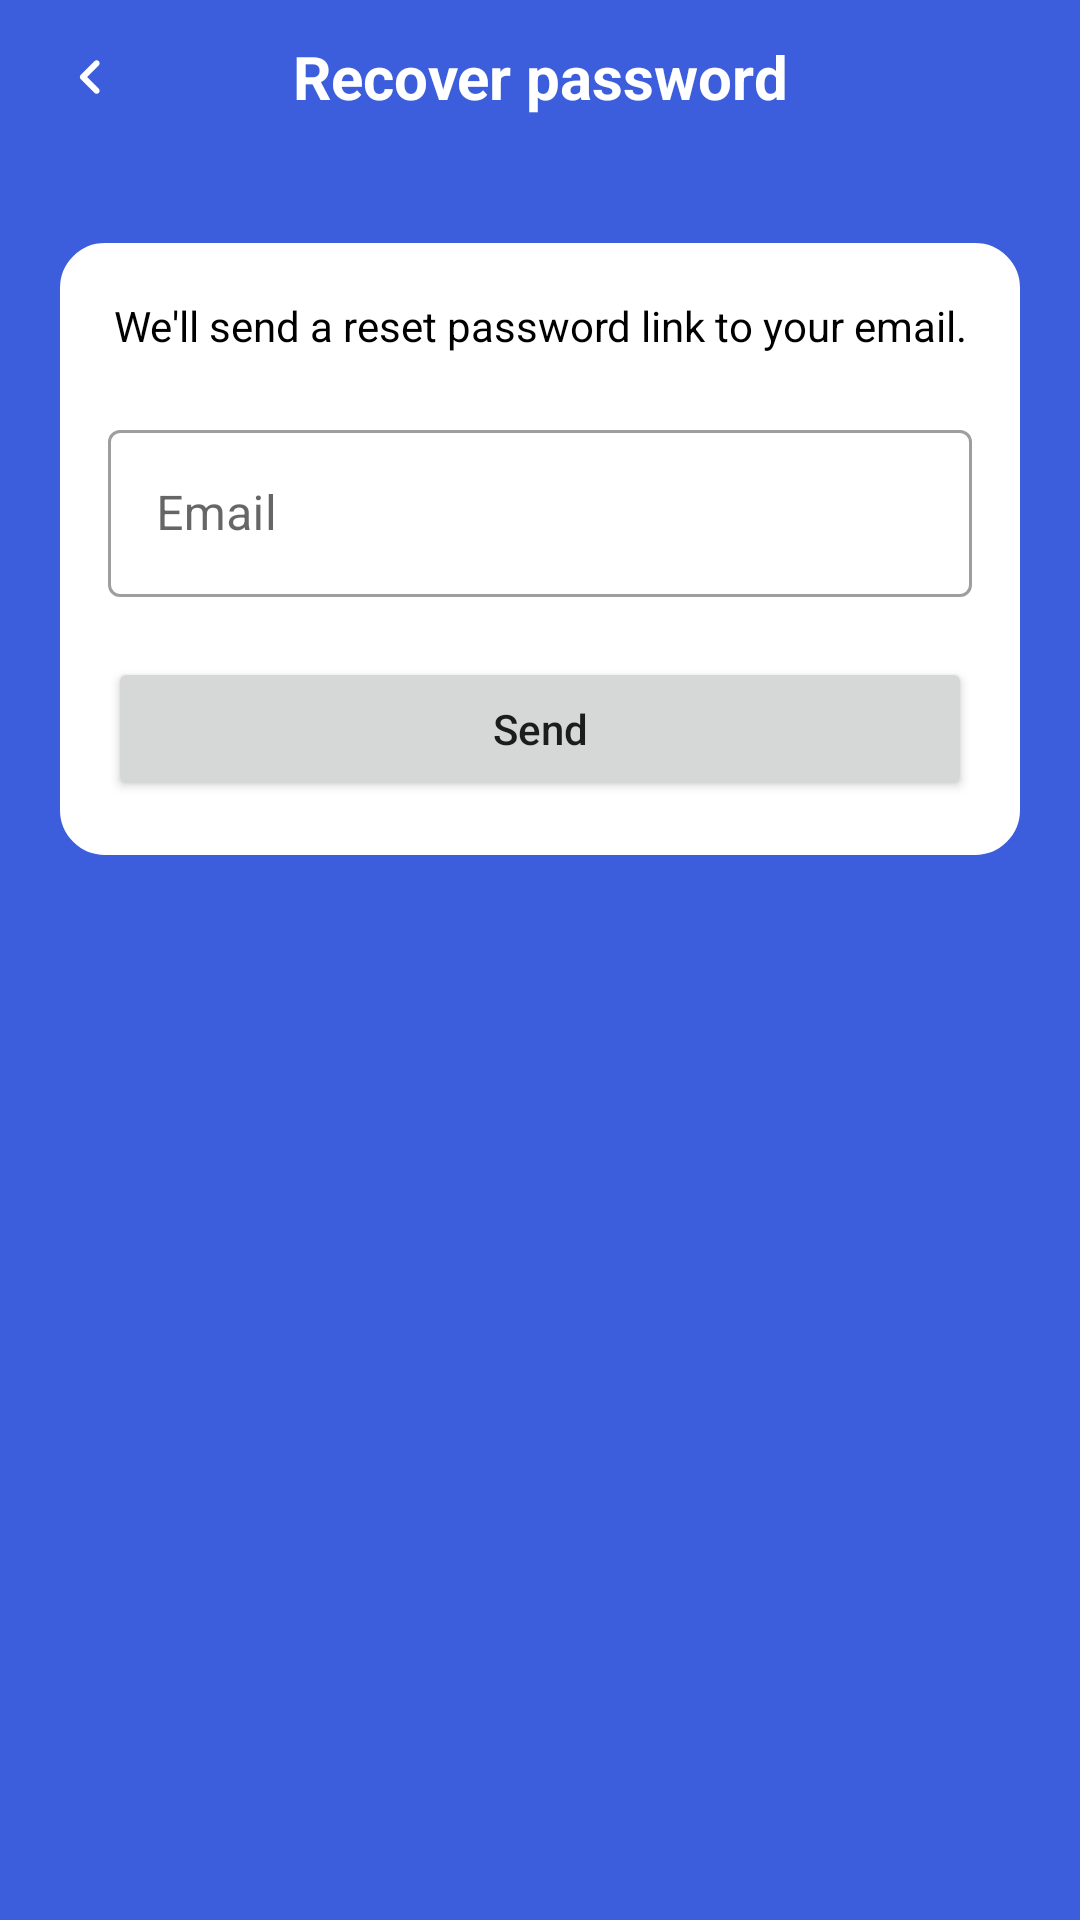

Icon bounding boxes for this 1080w x 1920h phone screenshot, format (x1, y1, x2, y2):
navigate before: (80, 60, 100, 94)
